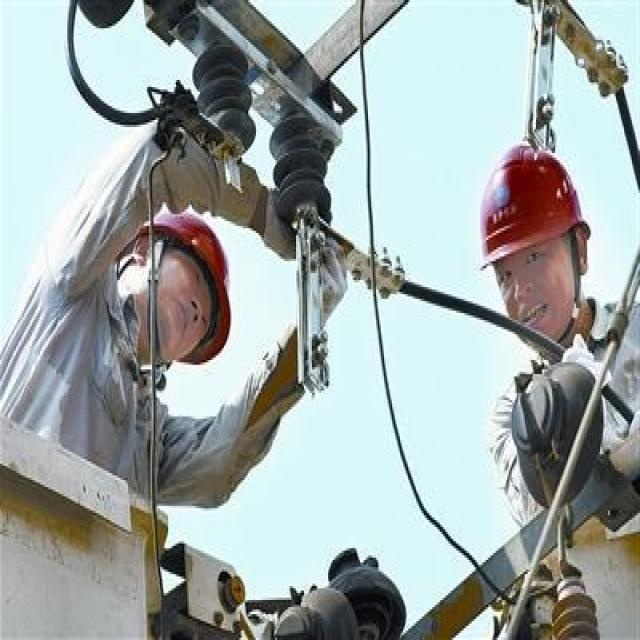Con_Casco: (475, 143, 582, 343), (120, 210, 233, 369)
